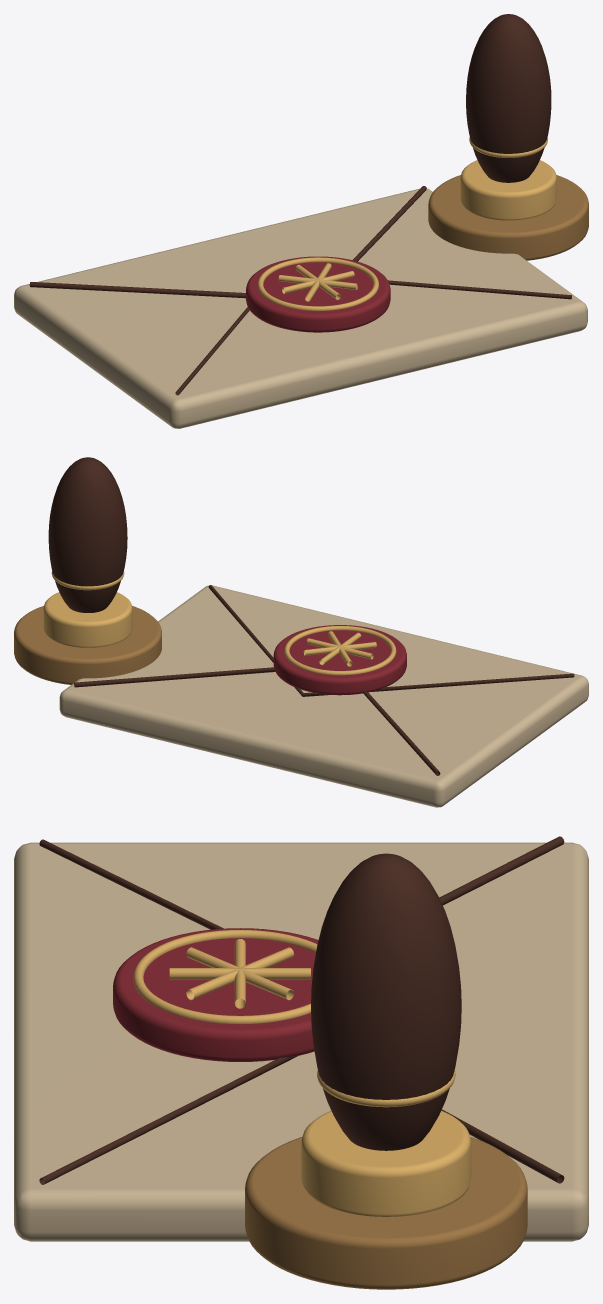
File: dispatch-seal-v1.glb
3 renders of one model, top to bottom at view 1: azimuth 30°, elevation 25°; view 2: azimuth 150°, elevation 25°; view 3: azimuth 270°, elevation 25°, orthographic. The views are drawn at different scales.
Parts seen in each view (by area): view 1: FoldedDispatch, TurnedHandle, StampFoot, WaxSeal, StampCollar, EnvelopeFold, SealBorder, EnvelopeSeam; view 2: FoldedDispatch, TurnedHandle, StampFoot, WaxSeal, StampCollar, EnvelopeFold, EnvelopeSeam, SealBorder; view 3: FoldedDispatch, TurnedHandle, StampFoot, WaxSeal, StampCollar, EnvelopeSeam, SealBorder, EnvelopeFold, HandleBand, SealSigil.006, SealSigil.002, SealSigil.001 (+1 smaller).
Boxes of the visible parts, box(x1,y1,x2,y2) form: FoldedDispatch: box(14, 188, 587, 428); TurnedHandle: box(466, 14, 551, 182); StampFoot: box(428, 175, 588, 260); WaxSeal: box(246, 256, 390, 332); StampCollar: box(460, 160, 556, 220); EnvelopeFold: box(29, 186, 426, 298); SealBorder: box(257, 257, 378, 310); EnvelopeSeam: box(175, 280, 571, 395); FoldedDispatch: box(59, 585, 588, 807); TurnedHandle: box(48, 457, 127, 612); StampFoot: box(14, 606, 161, 684); WaxSeal: box(273, 625, 406, 695); StampCollar: box(43, 592, 132, 647); EnvelopeFold: box(74, 667, 440, 775); EnvelopeSeam: box(208, 585, 574, 696); SealBorder: box(284, 626, 396, 675); FoldedDispatch: box(14, 842, 588, 1241); TurnedHandle: box(311, 853, 461, 1150); StampFoot: box(245, 1137, 527, 1289); WaxSeal: box(113, 928, 318, 1061); StampCollar: box(301, 1110, 471, 1216); EnvelopeSeam: box(39, 839, 297, 1184); SealBorder: box(133, 930, 317, 1024); EnvelopeFold: box(439, 836, 564, 1183); HandleBand: box(317, 1070, 455, 1107); SealSigil.006: box(169, 968, 239, 979); SealSigil.002: box(240, 968, 310, 979); SealSigil.001: box(240, 969, 293, 999).
Size of the model in its own units: 2.2 by 0.96 by 1.22.
